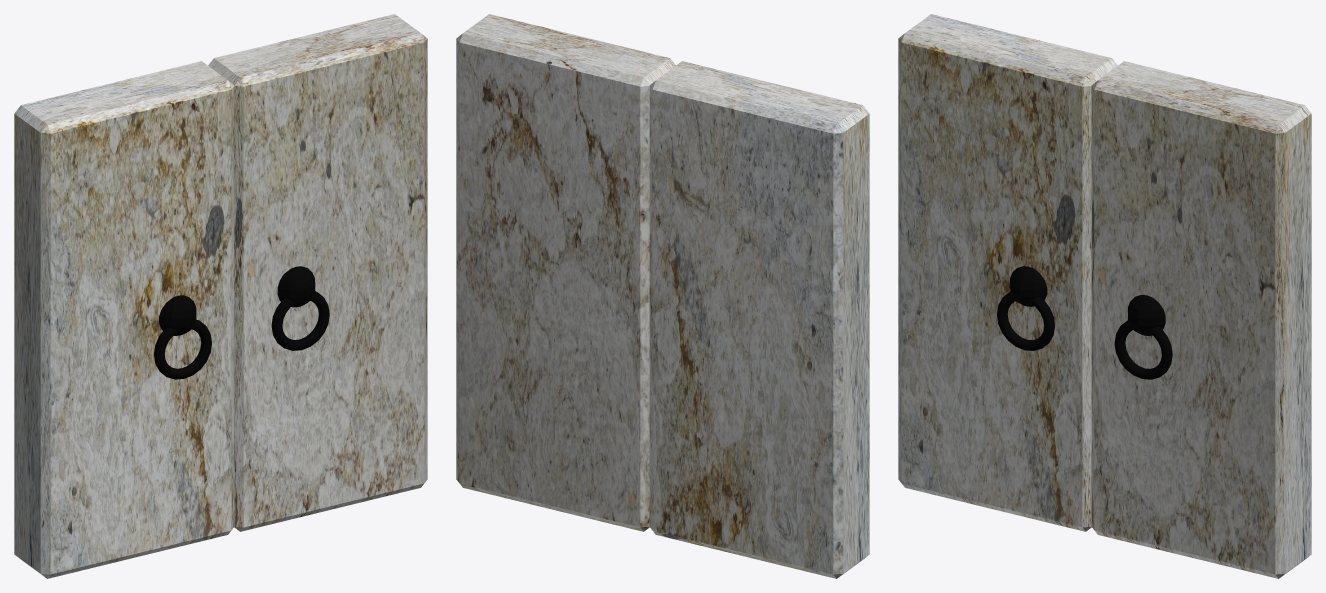
Rendered from door.fbx.
3 renders of one model, left to right at view 1: azimuth 30°, elevation 25°; view 2: azimuth 150°, elevation 25°; view 3: azimuth 330°, elevation 25°, orthographic.
Visible parts, largest first — view 1: pCube1, pCube2, pTorus2, pTorus1, pSphere1, pSphere2; view 2: pCube1, pCube2; view 3: pCube2, pCube1, pTorus2, pTorus1, pSphere1, pSphere2.
Boxes of the visible parts, left/top/right/bottom form: pCube1: left=14, top=61, right=234, bottom=578; pCube2: left=208, top=14, right=427, bottom=531; pTorus2: left=154, top=319, right=211, bottom=379; pTorus1: left=271, top=291, right=329, bottom=350; pSphere1: left=277, top=266, right=315, bottom=307; pSphere2: left=159, top=295, right=196, bottom=335; pCube1: left=649, top=61, right=869, bottom=578; pCube2: left=456, top=14, right=675, bottom=531; pCube2: left=1091, top=61, right=1311, bottom=578; pCube1: left=898, top=14, right=1117, bottom=531; pTorus2: left=997, top=292, right=1054, bottom=350; pTorus1: left=1114, top=320, right=1172, bottom=379; pSphere1: left=1128, top=295, right=1165, bottom=335; pSphere2: left=1010, top=266, right=1047, bottom=306.
Bounding box in the file's own units: 5.96 × 6.68 × 1.13.
2 materials, 1 textured.
